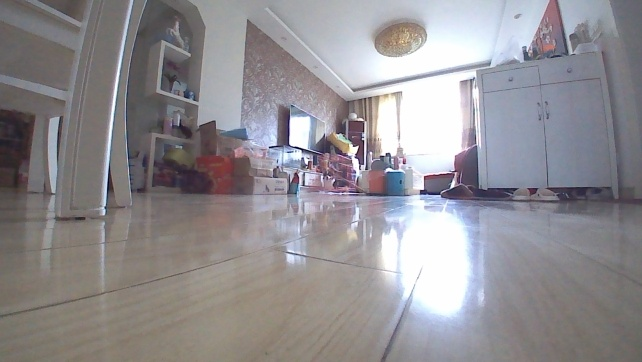shoe: (440, 182, 480, 200), (584, 184, 614, 201)
slipper: (528, 185, 562, 202), (509, 186, 533, 201)
sofa1: (419, 141, 477, 193)
